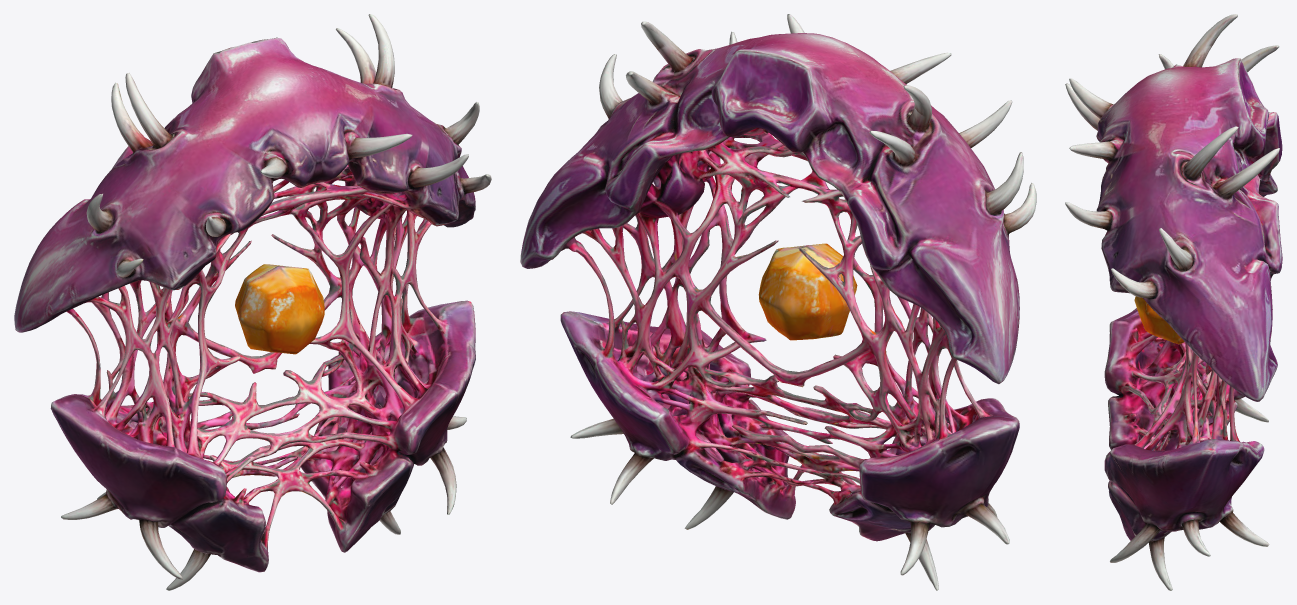
3 views of the same model, side by side, from view 1: azimuth 30°, elevation 25°; view 2: azimuth 150°, elevation 25°; view 3: azimuth 270°, elevation 25° (orthographic). The views are drawn at different scales.
Bounding box in the file's own units: 0.9438 × 1 × 0.422.
1 material, 1 textured.
